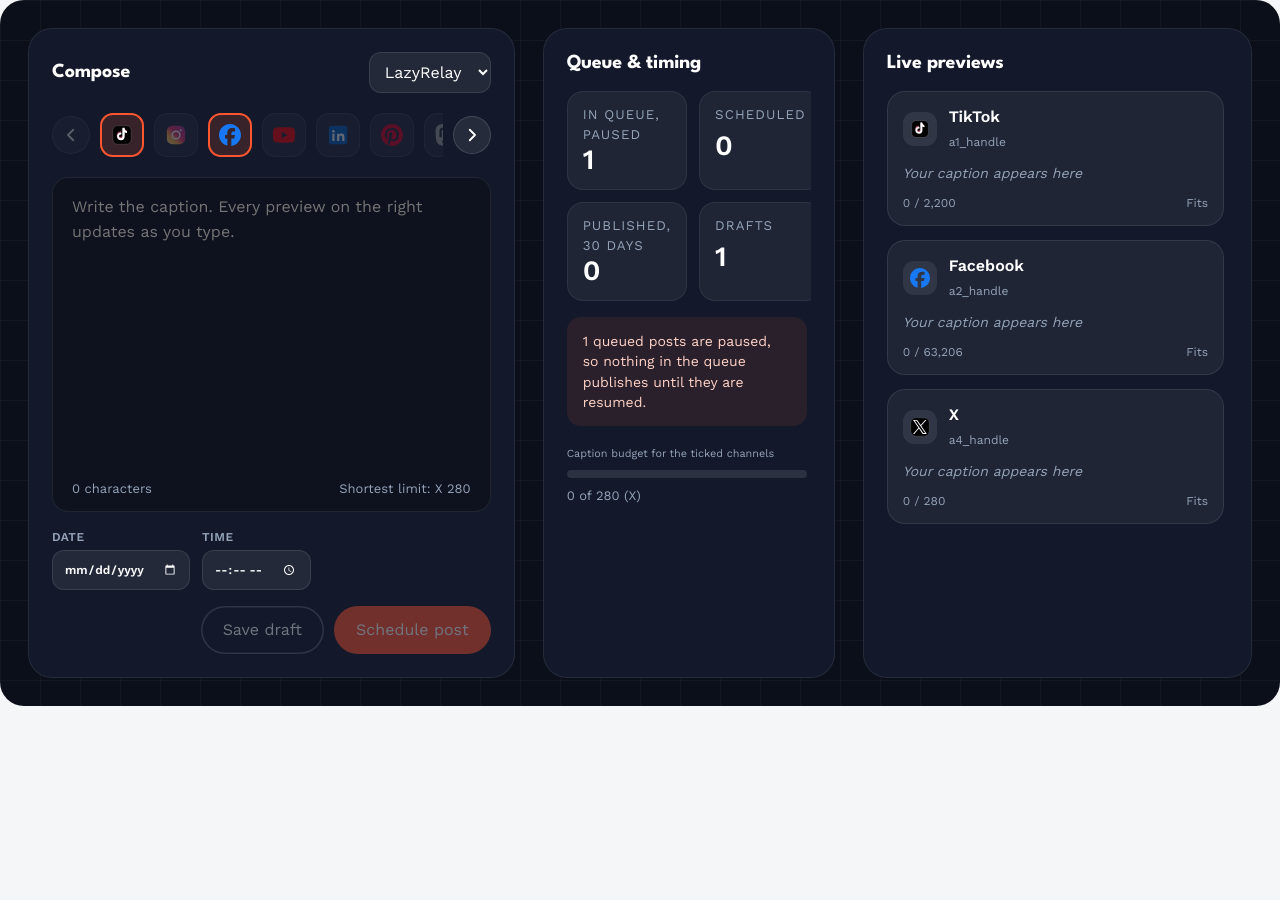
Test: saving and scheduling › shows a failure from the server and keeps the caption
The width and height of the screenshot is (1280, 900).
Replace the text in the text box labelled "caption" with "Keep me" at (271, 324), box [52,177,491,470]
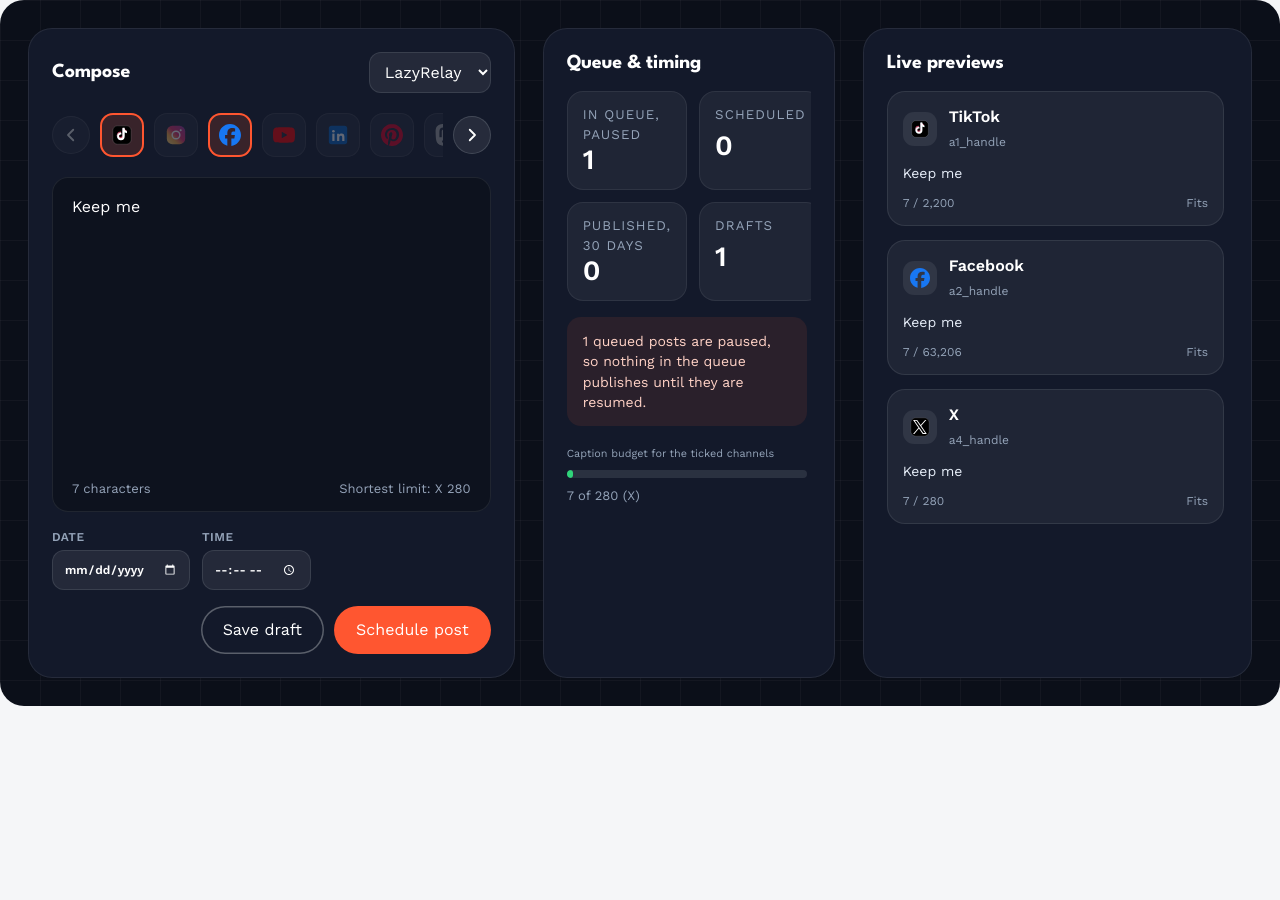
Click the button "Save draft" at (262, 630), box [201,606,324,654]
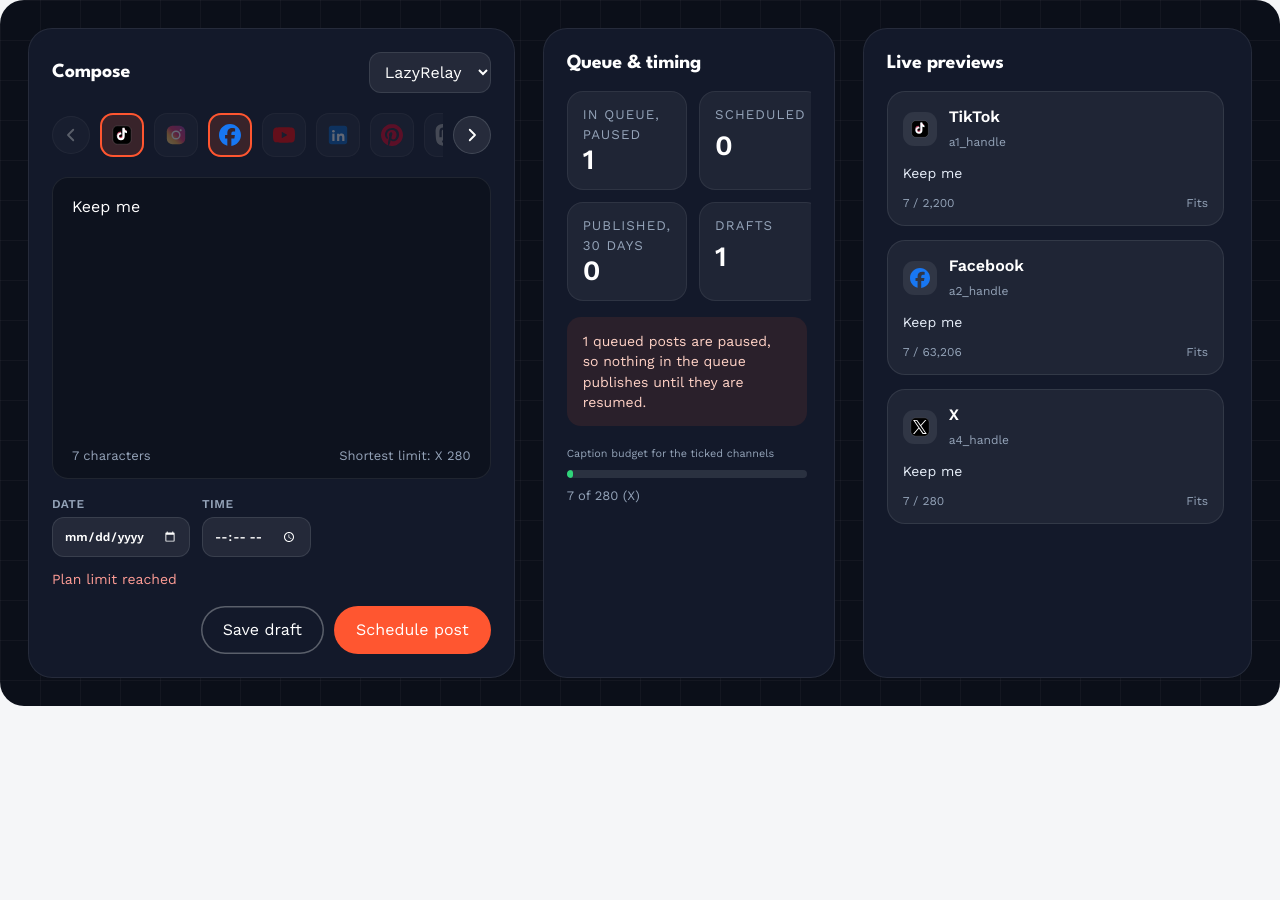
Expected: the message reads "Plan limit reached", [52,571,177,587]
